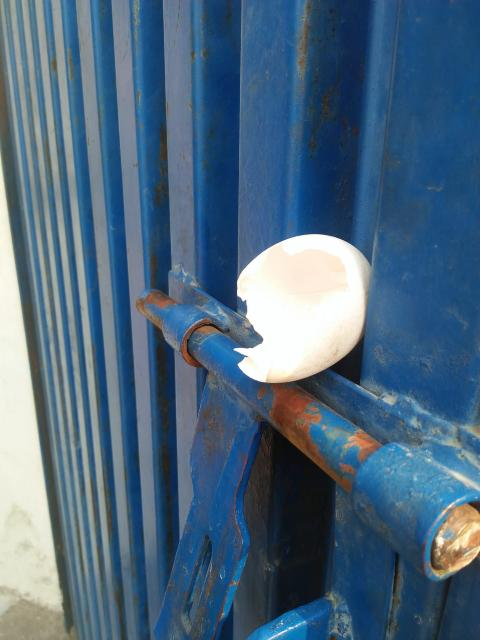Roto: (232, 232, 371, 384)
